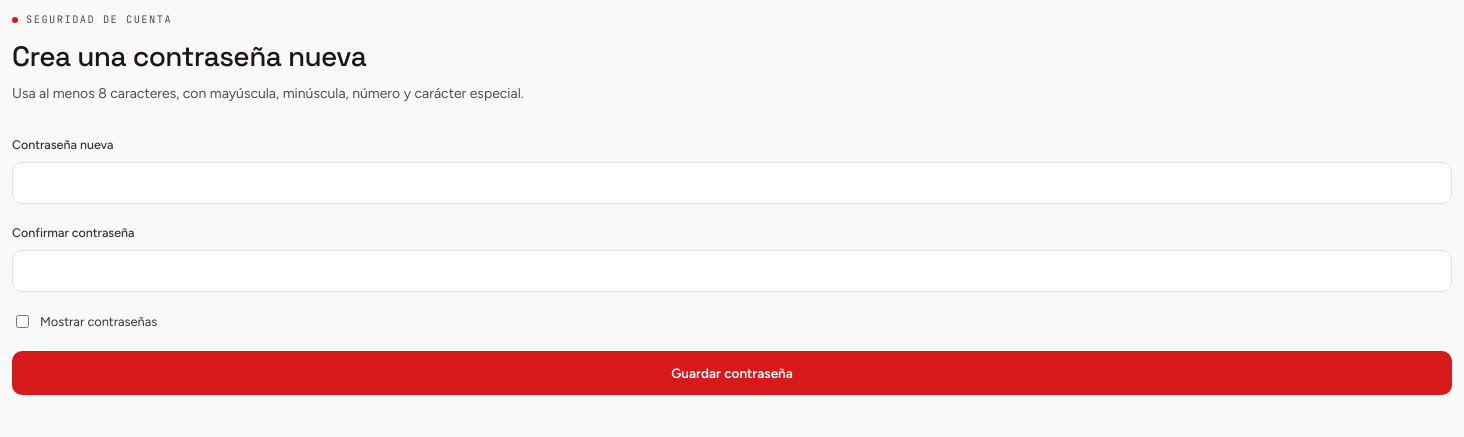
Scenario: ResetPasswordPage › rejects a password without lowercase and explains the policy
Type "ABC123!@#" into the password field labelled "Contraseña nueva" at (732, 183), box x1=12 y1=162 x2=1452 y2=204
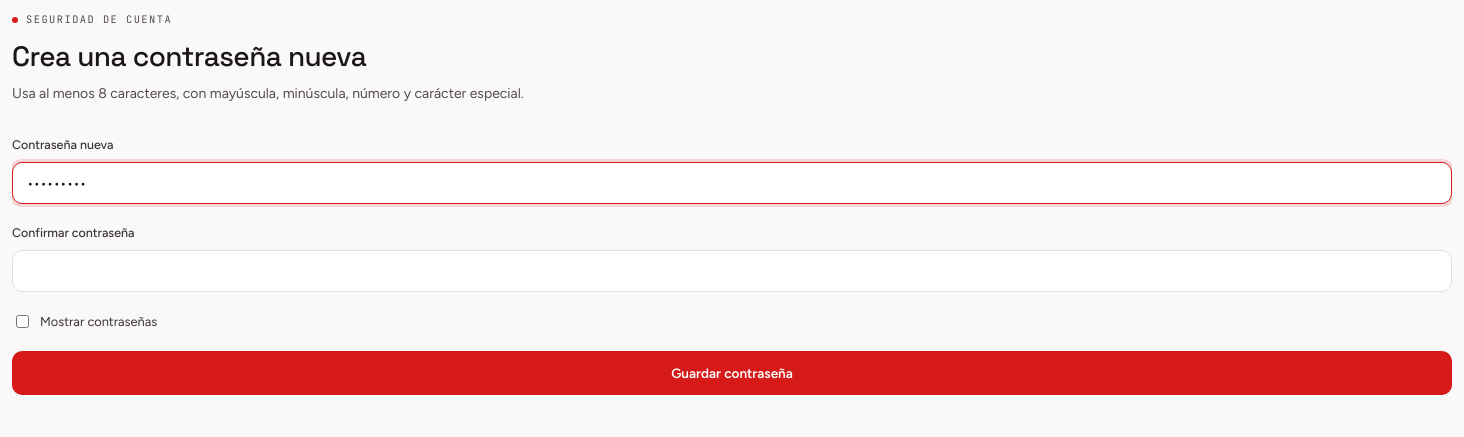
Type "ABC123!@#" into the password field labelled "Confirmar contraseña" at (732, 271), box x1=12 y1=250 x2=1452 y2=292
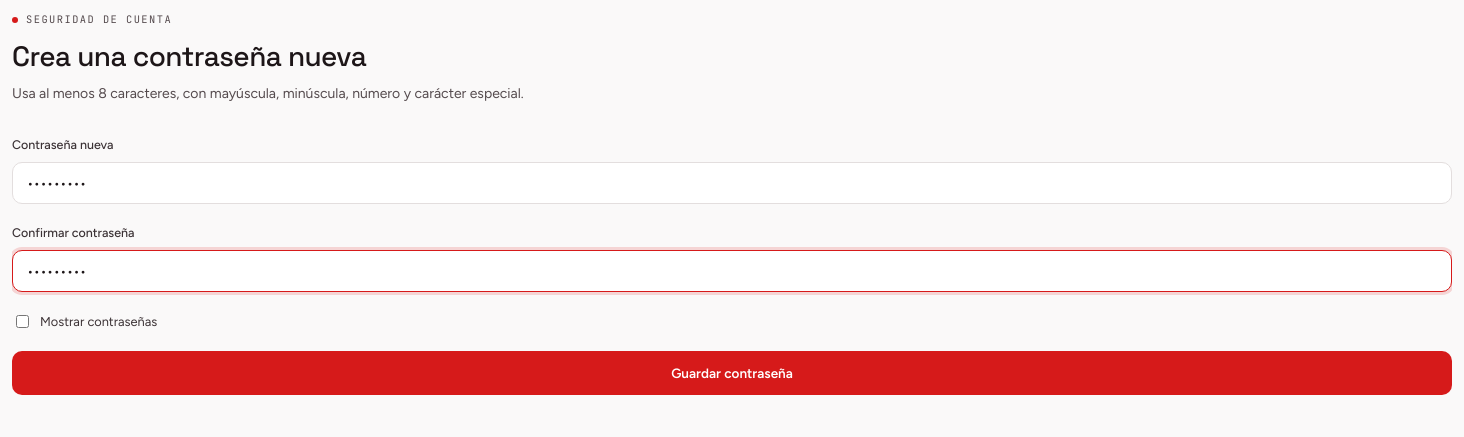
Click the button "Guardar contraseña" at (732, 373), box x1=12 y1=351 x2=1452 y2=395
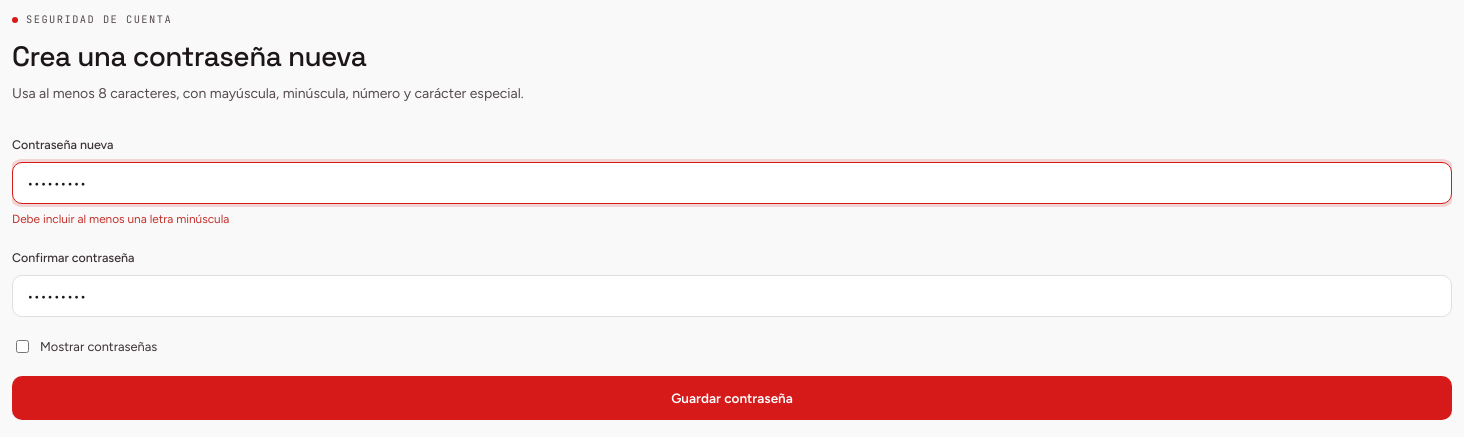
Check: the text "Debe incluir al menos una letra minúscula" is shown, box x1=12 y1=212 x2=229 y2=226
